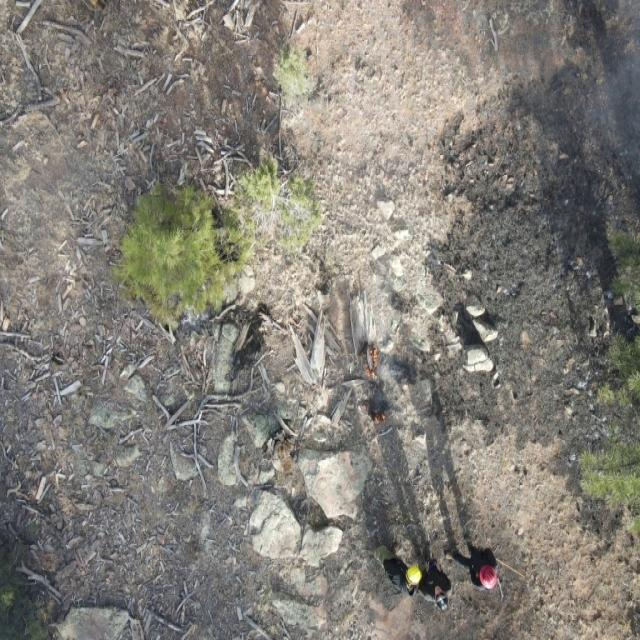fire: (360, 343, 380, 378), (362, 402, 386, 427)
smoke: (548, 0, 640, 160), (301, 292, 412, 387)
